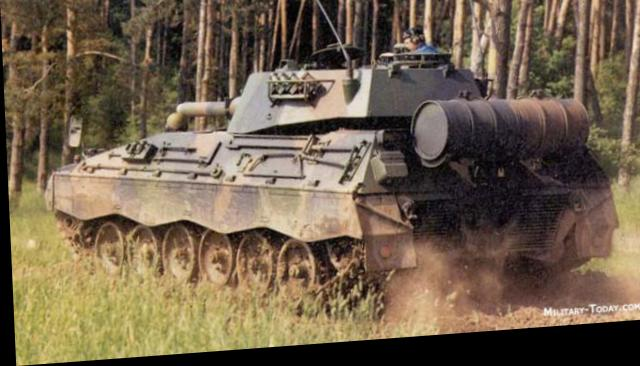tank: (38, 53, 609, 338)
